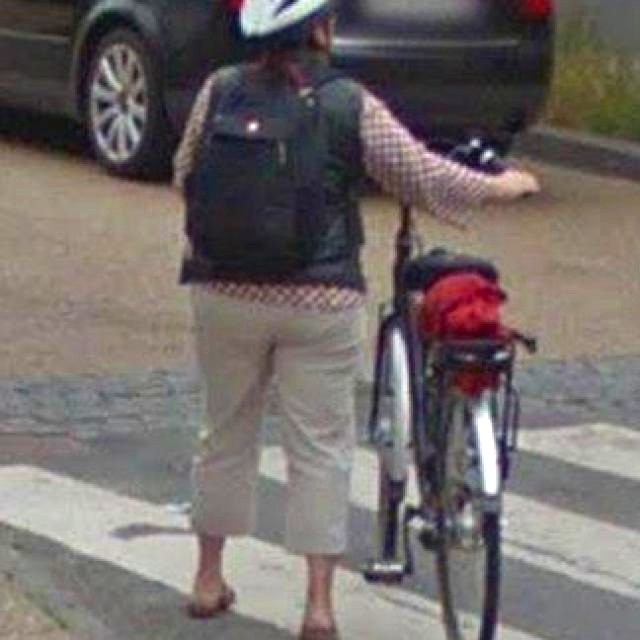bicycle: (297, 86, 574, 634)
